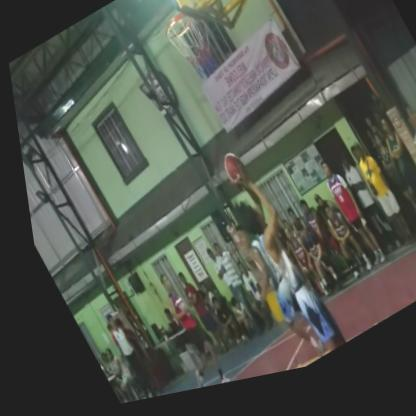basketball: (209, 146, 251, 207)
rim: (140, 0, 241, 111)
